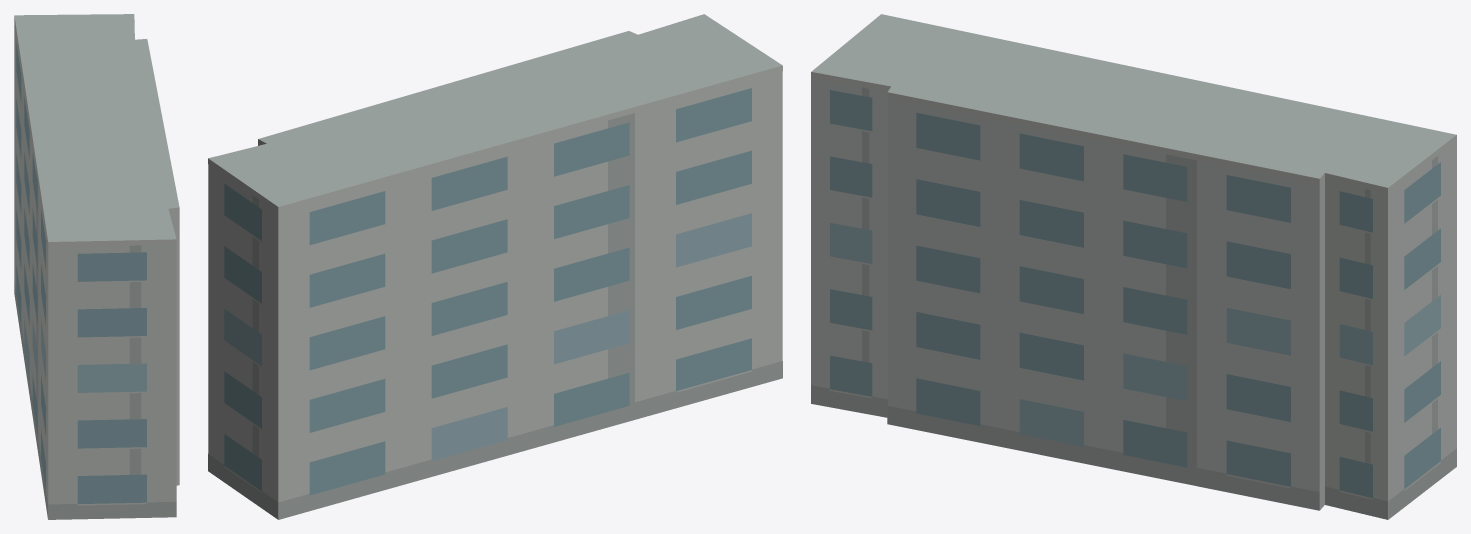
The model's file is survey-upis-32909557.glb.
3 views of the same model, side by side, from view 1: azimuth 30°, elevation 25°; view 2: azimuth 150°, elevation 25°; view 3: azimuth 270°, elevation 25° (orthographic). The views are drawn at different scales.
Visible parts, largest first — view 1: survey-upis-32909557.tmp; view 2: survey-upis-32909557.tmp; view 3: survey-upis-32909557.tmp.
Boxes of the visible parts, box(x1,y1,x2,y2) form: survey-upis-32909557.tmp: box(14, 14, 179, 519); survey-upis-32909557.tmp: box(208, 14, 782, 519); survey-upis-32909557.tmp: box(811, 14, 1456, 519).
Size of the model in its own units: 14.39 by 12.8 by 22.57.
